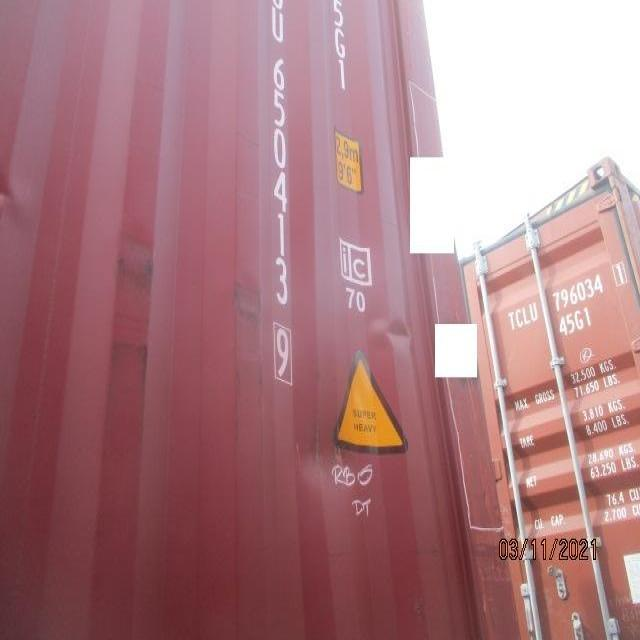dent: (259, 307, 422, 515)
